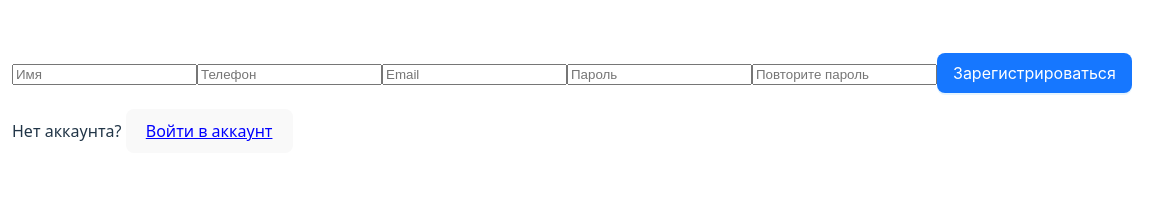
it: RegisterForm › показывает ошибку, если пароли не совпадают
This screenshot has width=1149, height=198.
Type "123456" into the password field with placeholder "Пароль" at coordinates (660, 75), box [567,64,752,85]
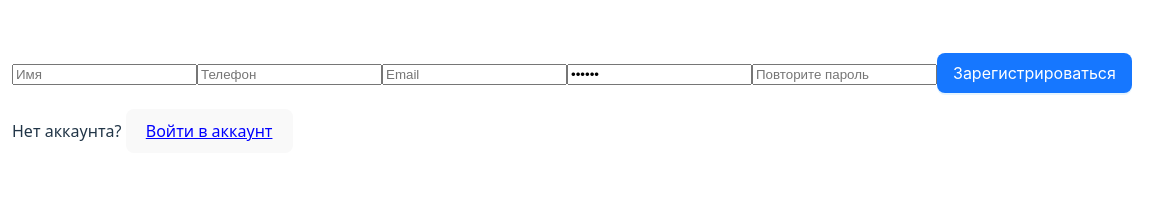
Type "654321" into the password field with placeholder "Повторите пароль" at coordinates (844, 75), box [752,64,937,85]
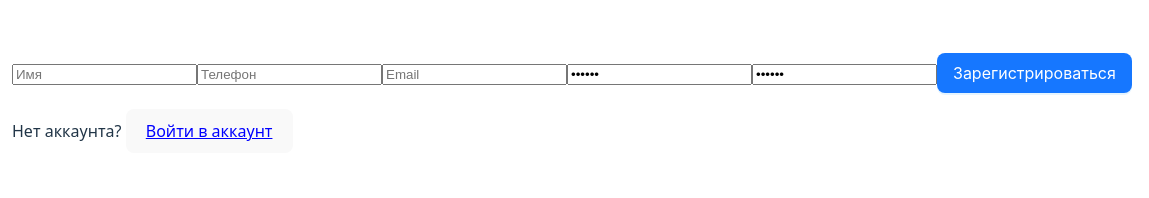
Submit the form "Зарегистрироваться", box [12,53,1132,93]
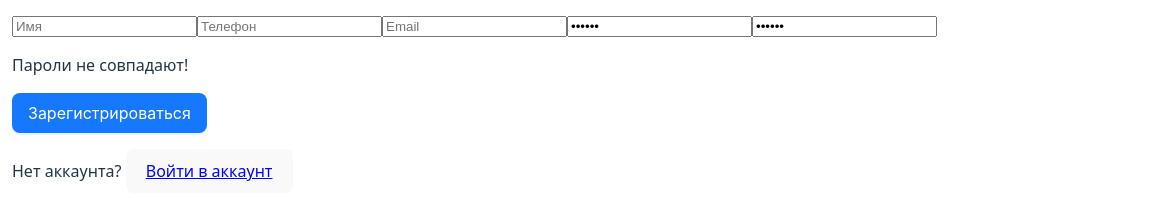
Result: the text "Пароли не совпадают!" is shown at [12,54,188,76]
